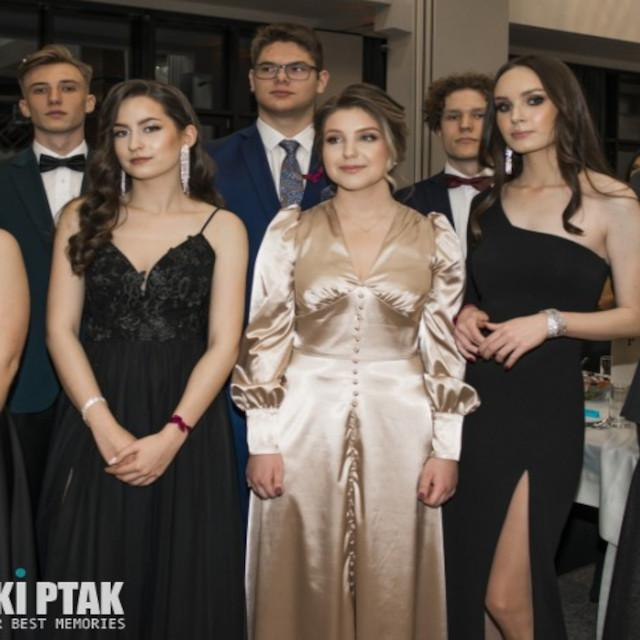kobieta: (255, 92, 463, 640), (51, 84, 248, 640), (472, 50, 640, 640)
mezczyzna: (3, 47, 107, 438), (199, 22, 345, 210), (396, 75, 514, 217)
